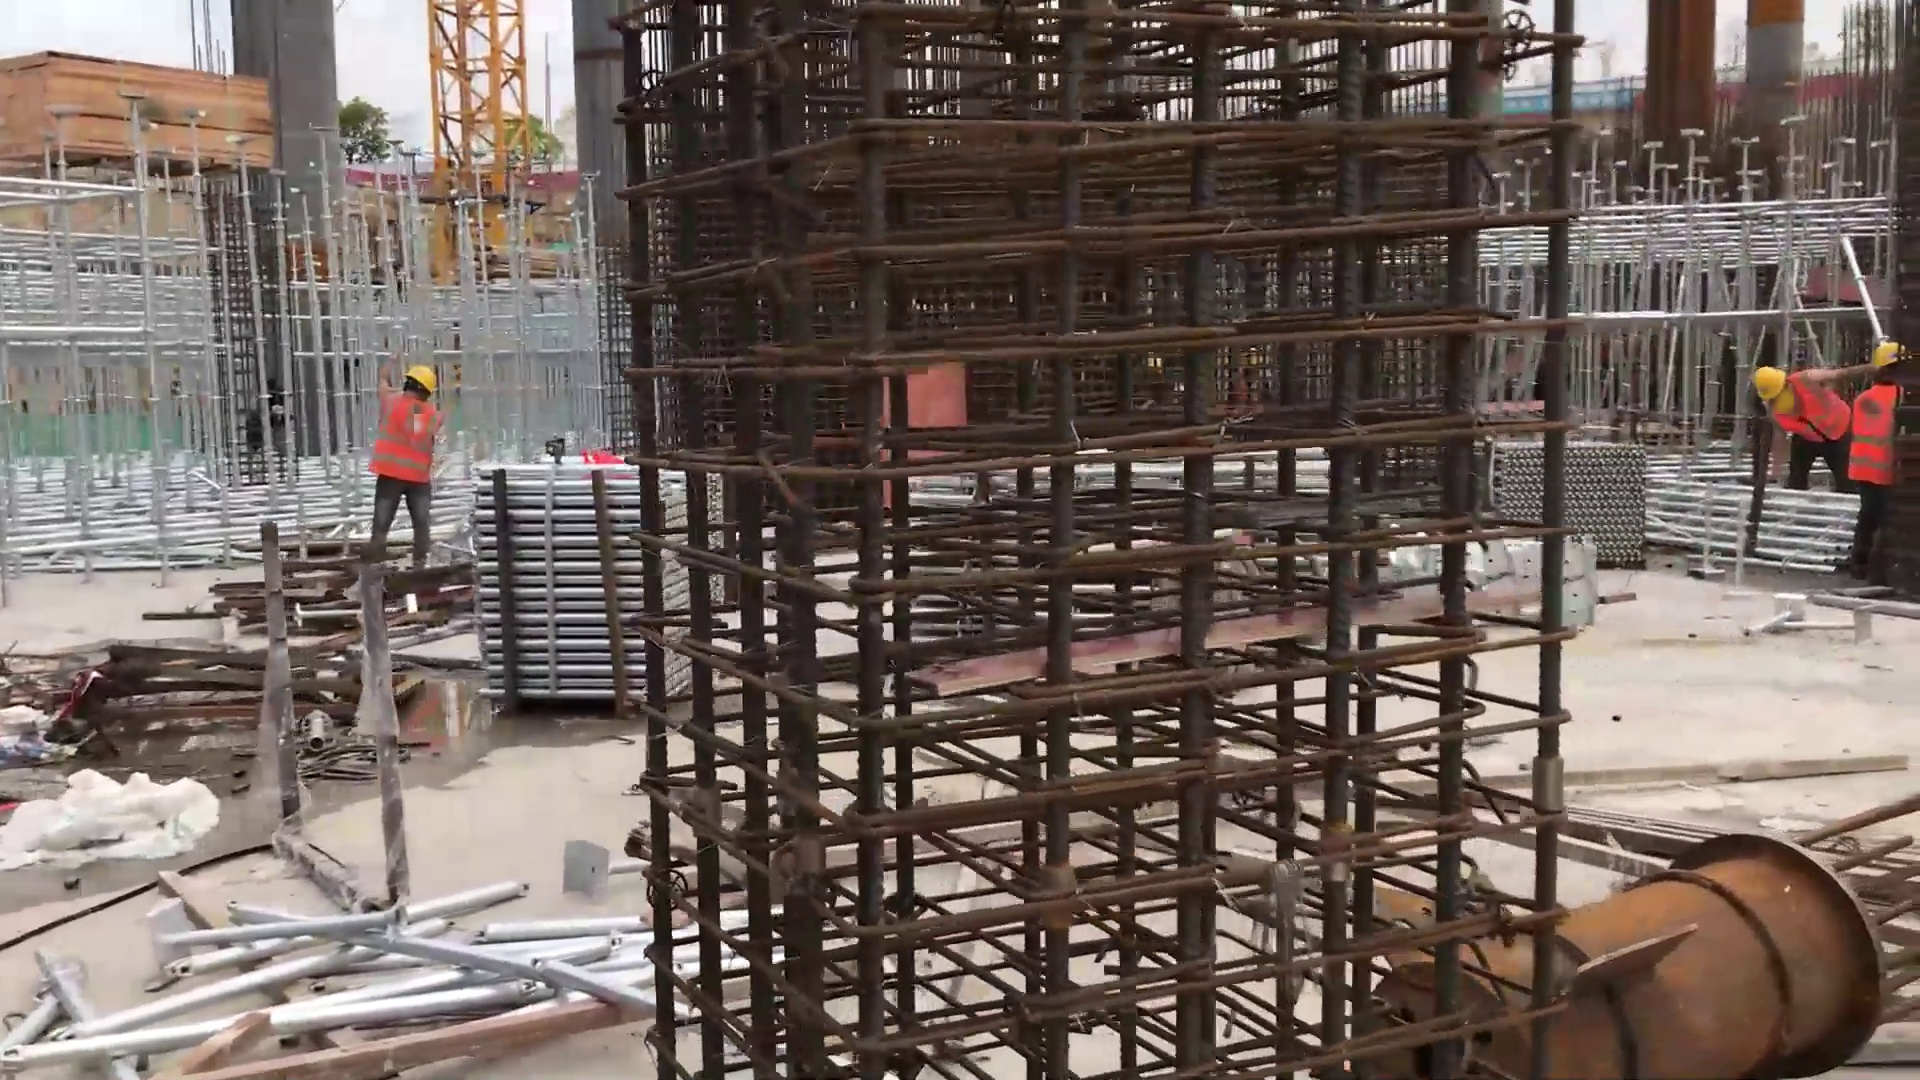board: (1, 47, 280, 187)
fence: (331, 151, 585, 203)
helmet: (1753, 362, 1783, 404), (1867, 340, 1914, 367), (407, 367, 437, 397)
person: (368, 337, 448, 558), (1856, 335, 1920, 604), (1749, 361, 1856, 505)
scaffold: (470, 465, 728, 701), (1477, 437, 1647, 583)
slogan: (1443, 85, 1655, 128)
vest: (1849, 382, 1913, 485), (371, 398, 446, 476), (1777, 370, 1852, 448)
